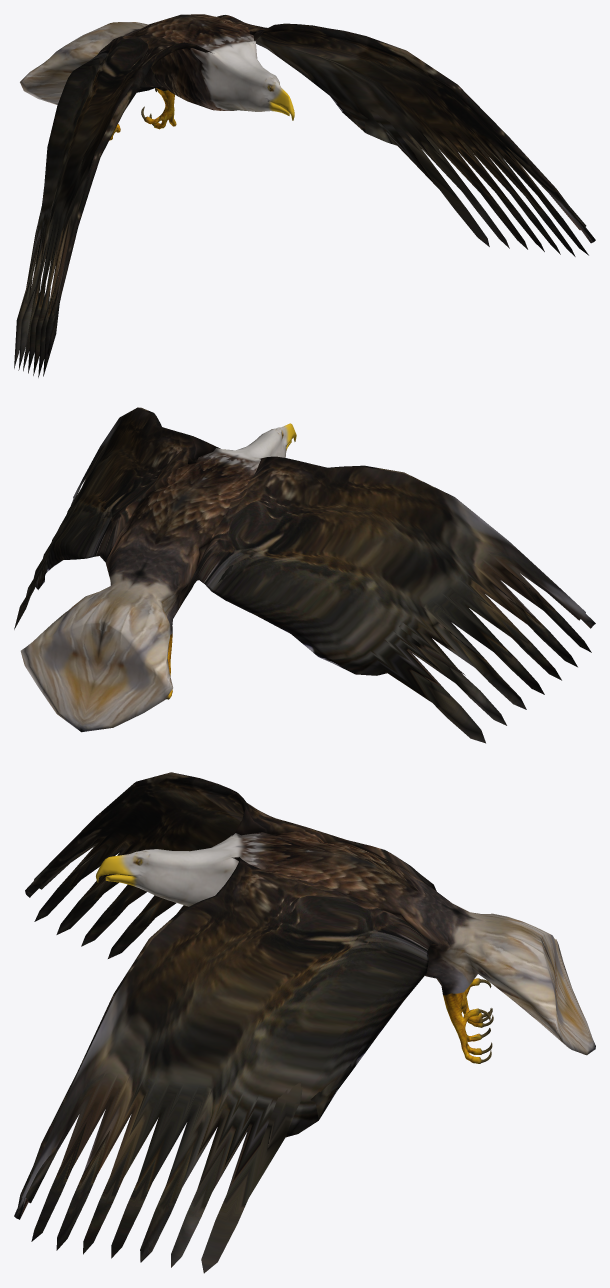
File: Eagle-original_000020.obj
3 renders of one model, top to bottom at view 1: azimuth 30°, elevation 25°; view 2: azimuth 150°, elevation 25°; view 3: azimuth 270°, elevation 25°, orthographic. The views are drawn at different scales.
Visible parts, largest first — view 1: Flugel_Plane.003; view 2: Flugel_Plane.003; view 3: Flugel_Plane.003.
Part boxes in pixels (left/top/right/bottom): Flugel_Plane.003: left=14, top=14, right=595, bottom=377; Flugel_Plane.003: left=14, top=407, right=595, bottom=743; Flugel_Plane.003: left=14, top=772, right=595, bottom=1273.
Size of the model in its own units: 8.2 by 3.8 by 6.55.
1 material, 1 textured.
